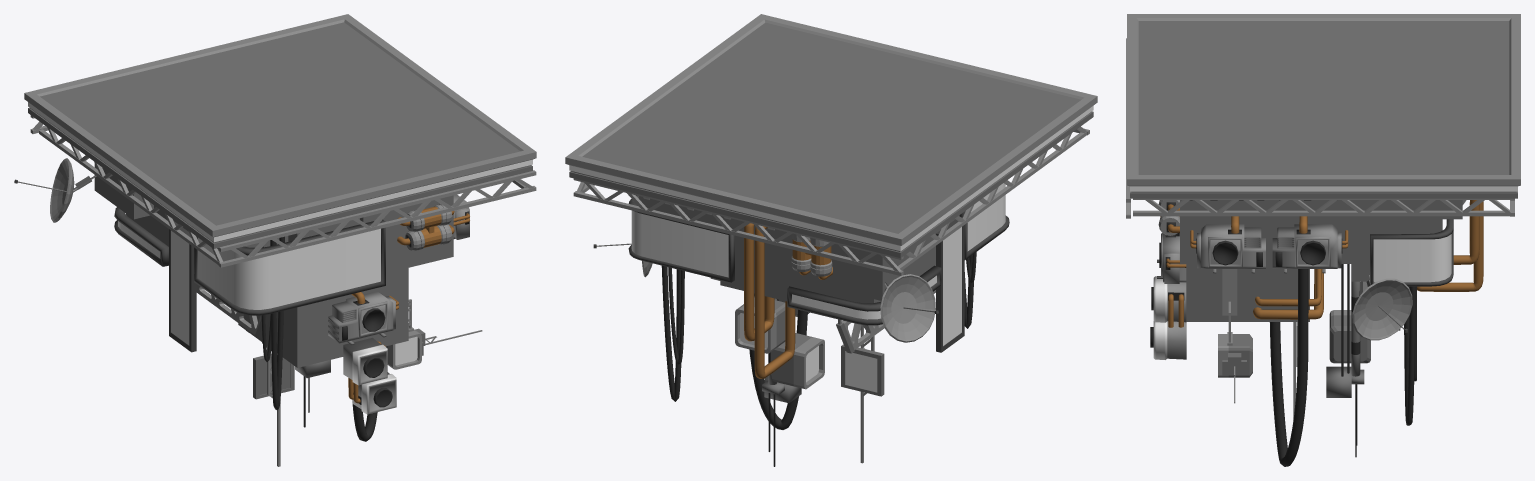
Rendered from Platform_4x4.glb.
3 renders of one model, left to right at view 1: azimuth 30°, elevation 25°; view 2: azimuth 150°, elevation 25°; view 3: azimuth 270°, elevation 25°, orthographic. The views are drawn at different scales.
Visible parts, largest first — view 1: Platform_4x4; view 2: Platform_4x4; view 3: Platform_4x4.
Part boxes in pixels (x1,y1,x2,y2): Platform_4x4: (14,14,536,466); Platform_4x4: (565,14,1097,466); Platform_4x4: (1126,14,1520,466).
Size of the model in its own units: 4.47 by 3.76 by 3.9.
